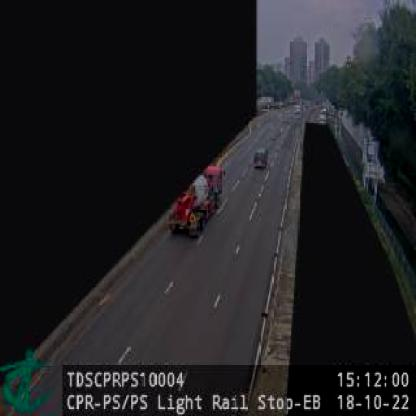Car: (254, 148, 268, 169)
Truck: (167, 163, 225, 239)
